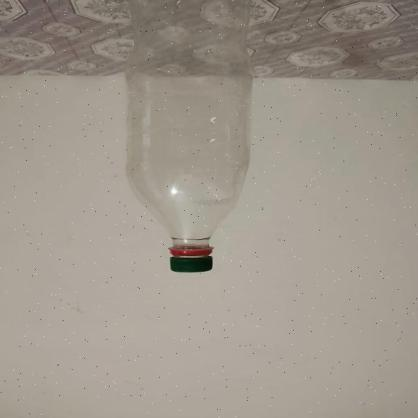bottle: (127, 0, 251, 273)
cap: (169, 249, 214, 272)
